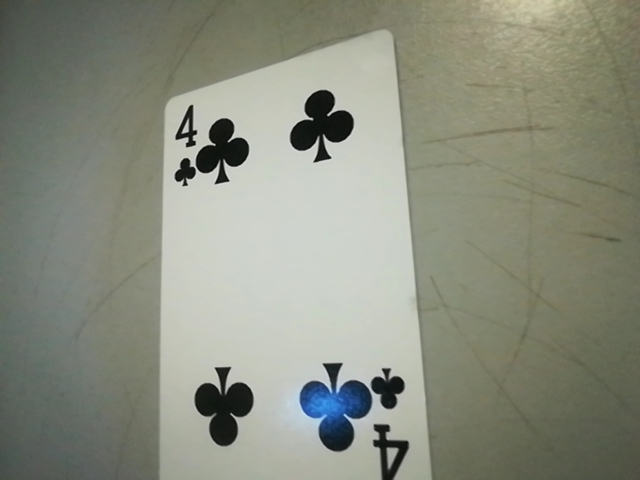mh 4: (356, 356, 423, 480)
